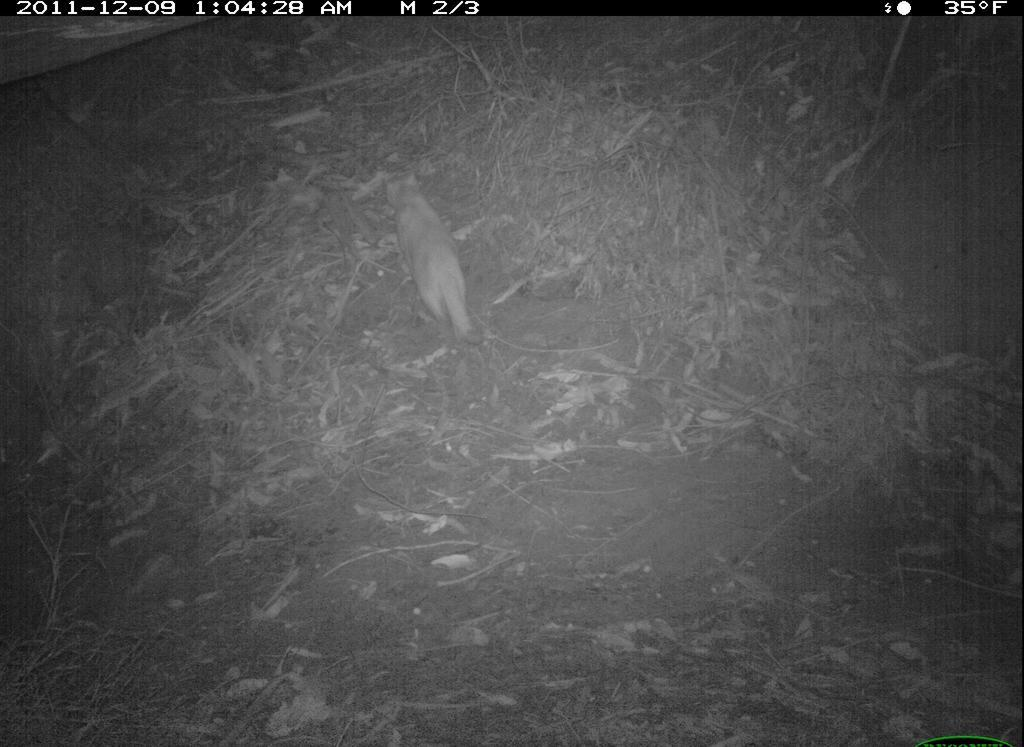dog: (382, 171, 486, 350)
